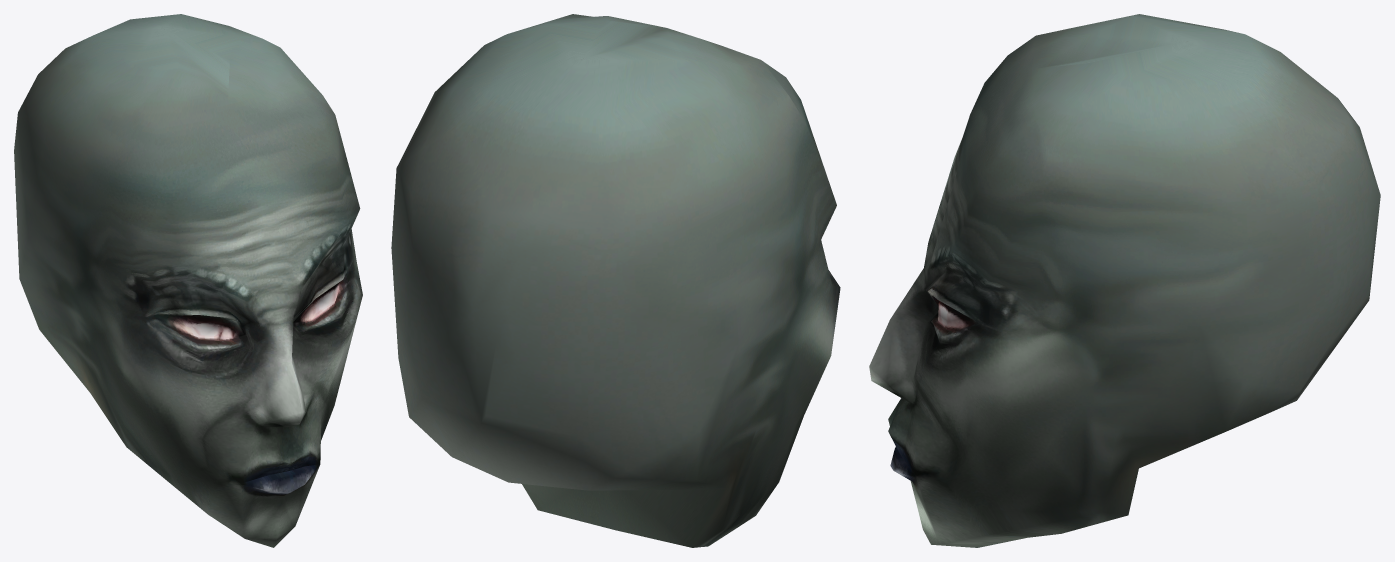
The model's file is b_v_dark elf_f_head_01.glb.
3 renders of one model, left to right at view 1: azimuth 30°, elevation 25°; view 2: azimuth 150°, elevation 25°; view 3: azimuth 270°, elevation 25°, orthographic. The views are drawn at different scales.
Visible parts, largest first — view 1: Tri B_V_Dark Elf_F_Head_01; view 2: Tri B_V_Dark Elf_F_Head_01; view 3: Tri B_V_Dark Elf_F_Head_01.
Part boxes in pixels (<box>): Tri B_V_Dark Elf_F_Head_01: <box>14,14,362,547</box>; Tri B_V_Dark Elf_F_Head_01: <box>391,14,840,547</box>; Tri B_V_Dark Elf_F_Head_01: <box>869,14,1380,547</box>.
Bounding box in the file's own units: 0.0941 × 0.1538 × 0.1417.
1 material, 1 textured.
